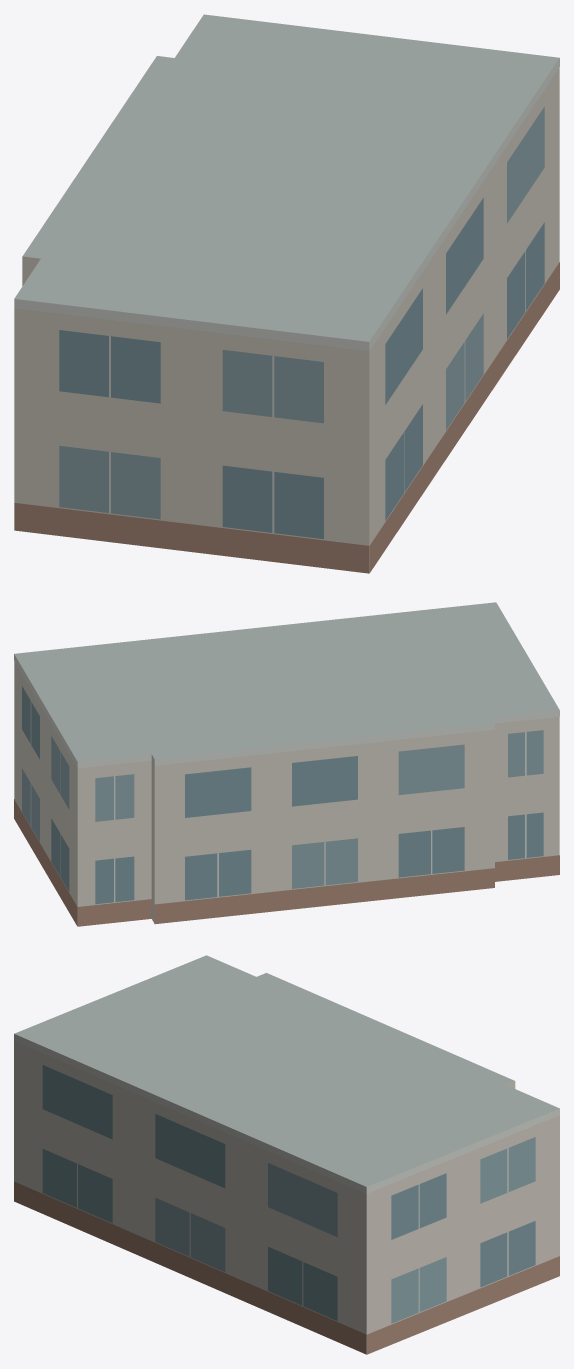
The model's file is survey-upis-32825763.glb.
The picture shows the model from 3 angles, top to bottom: view 1: azimuth 30°, elevation 25°; view 2: azimuth 150°, elevation 25°; view 3: azimuth 270°, elevation 25°; orthographic projection. The views are drawn at different scales.
Visible parts, largest first — view 1: survey-upis-32825763.tmp; view 2: survey-upis-32825763.tmp; view 3: survey-upis-32825763.tmp.
Boxes of the visible parts, left/top/right/bottom form: survey-upis-32825763.tmp: left=14, top=14, right=559, bottom=573; survey-upis-32825763.tmp: left=14, top=602, right=559, bottom=926; survey-upis-32825763.tmp: left=14, top=955, right=559, bottom=1354.
Size of the model in its own units: 18.09 by 6.1 by 18.
